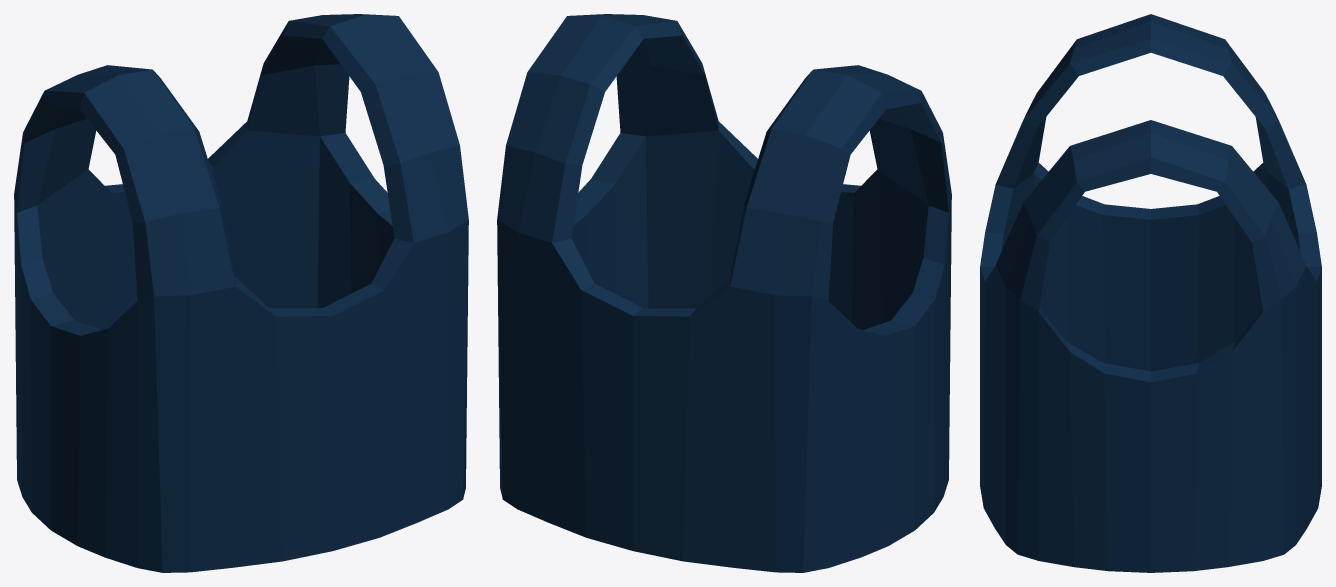
Rendered from Armor.glb.
3 renders of one model, left to right at view 1: azimuth 30°, elevation 25°; view 2: azimuth 150°, elevation 25°; view 3: azimuth 270°, elevation 25°, orthographic. The views are drawn at different scales.
Visible parts, largest first — view 1: Armor; view 2: Armor; view 3: Armor.
Part boxes in pixels (x1,y1,x2,y2): Armor: (14, 14, 468, 572); Armor: (497, 14, 951, 572); Armor: (980, 14, 1321, 572).
Size of the model in its own units: 0.5 by 0.5547 by 0.4166.
